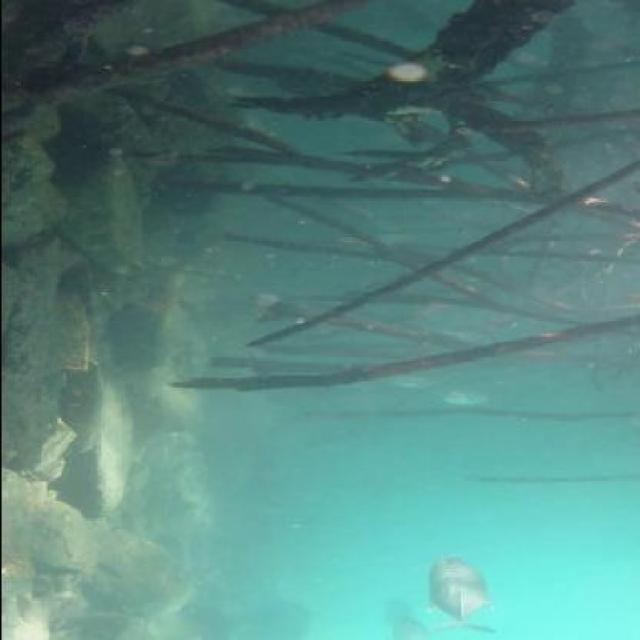Caranx_sexfasciatus_juvenile: (412, 555, 500, 639), (440, 378, 502, 413), (426, 319, 496, 346), (382, 371, 449, 398)
